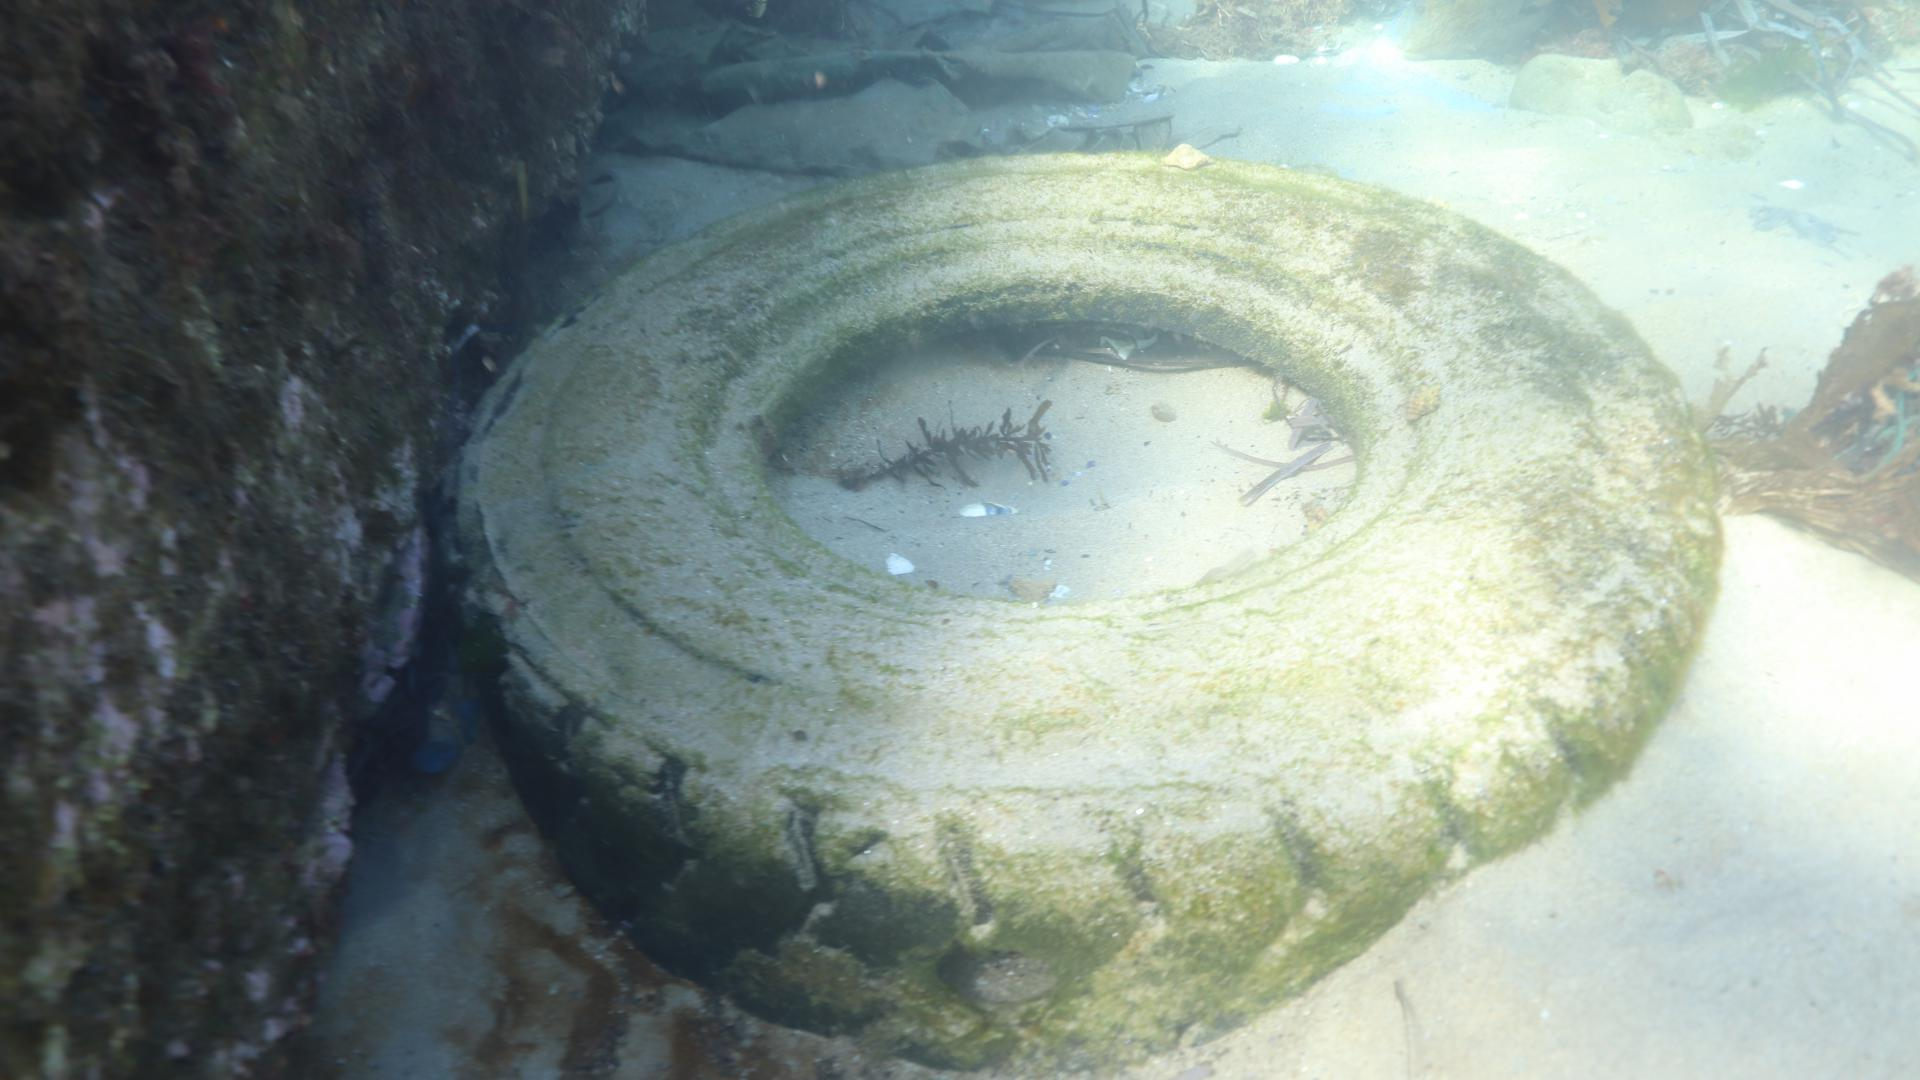tire: (452, 152, 1724, 1065)
